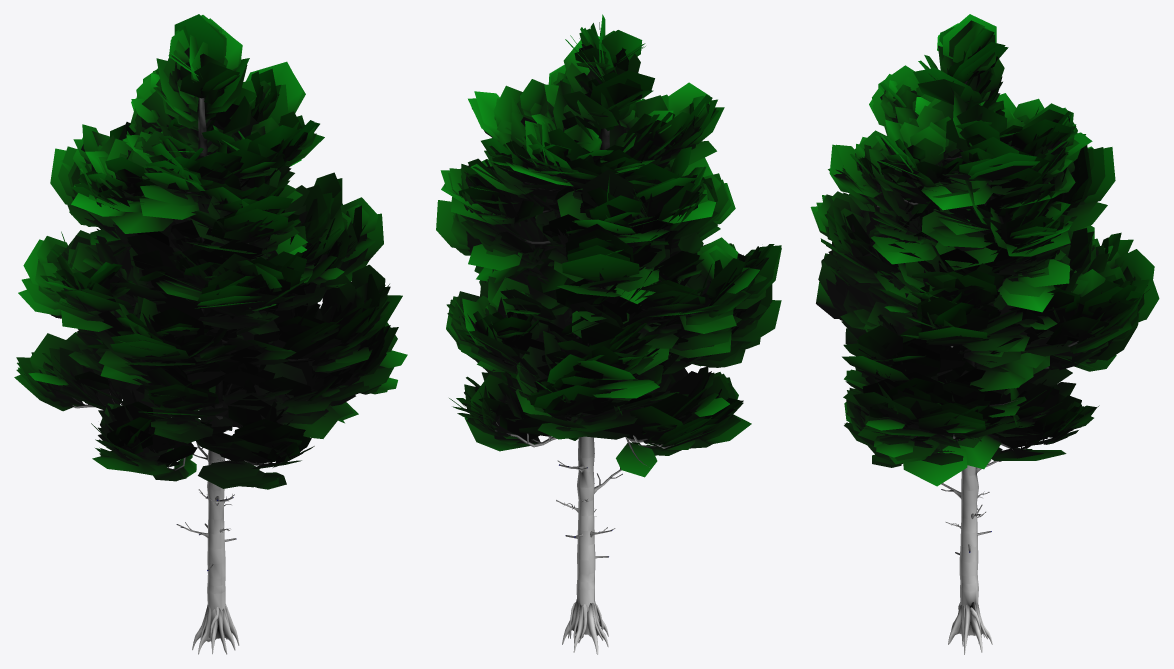
The model's file is PW_Tree_Spruce_01_04 Hero.fbx.
3 renders of one model, left to right at view 1: azimuth 30°, elevation 25°; view 2: azimuth 150°, elevation 25°; view 3: azimuth 270°, elevation 25°, orthographic. The views are drawn at different scales.
Parts seen in each view (by area): view 1: PW_Tree_Hero_Spruce_3_LOD0; view 2: PW_Tree_Hero_Spruce_3_LOD0; view 3: PW_Tree_Hero_Spruce_3_LOD0.
Boxes of the visible parts, box(x1,y1,x2,y2) form: PW_Tree_Hero_Spruce_3_LOD0: box(14, 14, 407, 654); PW_Tree_Hero_Spruce_3_LOD0: box(436, 14, 781, 654); PW_Tree_Hero_Spruce_3_LOD0: box(810, 14, 1159, 654).
Size of what is drawn, in the model's own units: 715 by 1345 by 681.
